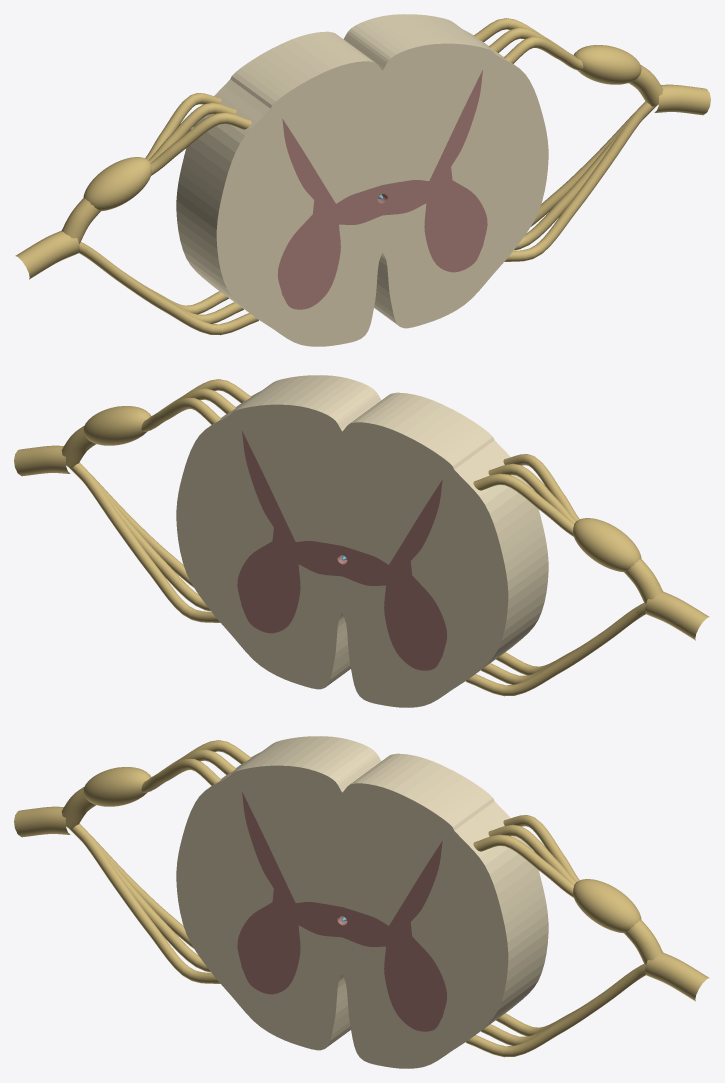
Rendered from spinal-section.glb.
The picture shows the model from 3 angles, top to bottom: view 1: azimuth 30°, elevation 25°; view 2: azimuth 150°, elevation 25°; view 3: azimuth 330°, elevation 25°; orthographic projection.
Parts seen in each view (by area): view 1: Lateral white column, Dorsal white column, Ventral white column, Ventral gray horn, Ventral root, Dorsal root, Dorsal root ganglion, Gray commissure, Spinal nerve, Dorsal gray horn; view 2: Lateral white column, Dorsal white column, Ventral white column, Ventral gray horn, Ventral root, Dorsal root, Dorsal root ganglion, Gray commissure, Spinal nerve, Dorsal gray horn; view 3: Lateral white column, Dorsal white column, Ventral white column, Ventral gray horn, Ventral root, Dorsal root, Dorsal root ganglion, Gray commissure, Spinal nerve, Dorsal gray horn.
Part boxes in pixels (bbox=[...]): Lateral white column: bbox=[176, 29, 548, 324]; Dorsal white column: bbox=[230, 14, 494, 203]; Ventral white column: bbox=[266, 203, 498, 346]; Ventral gray horn: bbox=[277, 180, 487, 309]; Ventral root: bbox=[79, 101, 656, 335]; Dorsal root: bbox=[61, 18, 663, 243]; Dorsal root ganglion: bbox=[83, 45, 641, 211]; Gray commissure: bbox=[313, 167, 452, 224]; Spinal nerve: bbox=[15, 84, 710, 279]; Dorsal gray horn: bbox=[282, 70, 482, 203]; Lateral white column: bbox=[176, 390, 548, 685]; Dorsal white column: bbox=[230, 375, 494, 564]; Ventral white column: bbox=[226, 564, 458, 707]; Ventral gray horn: bbox=[237, 541, 447, 670]; Ventral root: bbox=[68, 462, 645, 696]; Dorsal root: bbox=[61, 379, 663, 604]; Dorsal root ganglion: bbox=[83, 406, 641, 572]; Gray commissure: bbox=[272, 528, 411, 585]; Spinal nerve: bbox=[14, 445, 709, 640]; Dorsal gray horn: bbox=[242, 431, 442, 564]; Lateral white column: bbox=[176, 751, 548, 1046]; Dorsal white column: bbox=[230, 736, 494, 925]; Ventral white column: bbox=[226, 925, 458, 1068]; Ventral gray horn: bbox=[237, 902, 447, 1031]; Ventral root: bbox=[68, 823, 645, 1057]; Dorsal root: bbox=[61, 740, 663, 965]; Dorsal root ganglion: bbox=[83, 767, 641, 933]; Gray commissure: bbox=[272, 889, 411, 946]; Spinal nerve: bbox=[14, 806, 709, 1001]; Dorsal gray horn: bbox=[242, 792, 442, 925].
Bounding box in the file's own units: 0.0237 × 0.00917 × 0.00242.
